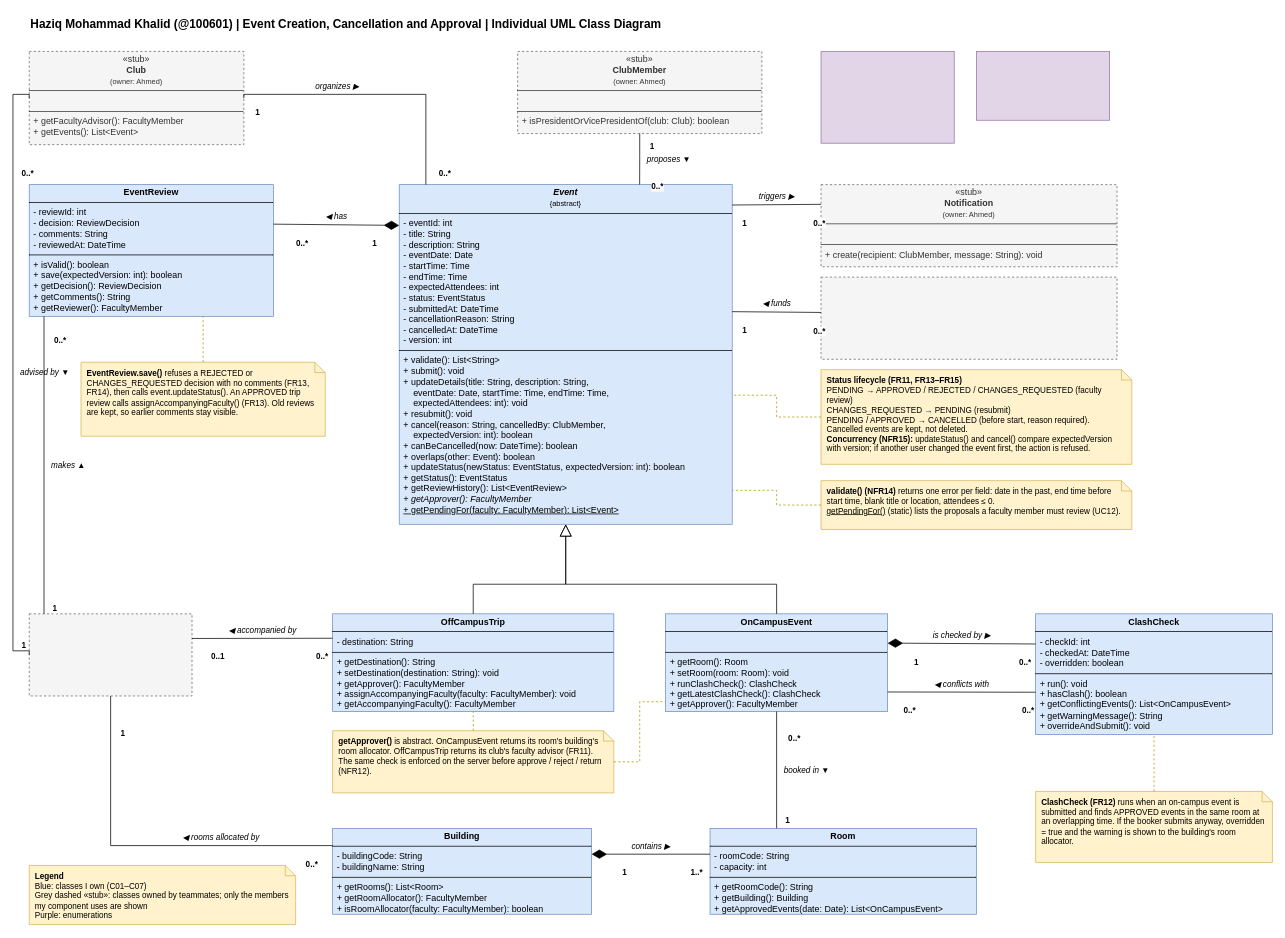
Some shapes in this 1285 by 938 pixel diagram are drawn without their labels. The centre of each missing label's shape, as x and y in pixels:
"«enumeration» EventStatus PENDING CHANGES_REQUESTED APPROVED REJECTED CANCELLED" belongs at (887,97).
"«enumeration» ReviewDecision APPROVED REJECTED CHANGES_REQUESTED" belongs at (1043,85).
"«stub» BudgetRequest (owner: Abdelrahman) + getEvent(): Event" belongs at (968,317).
"«stub» FacultyMember (owner: Ahmed) + getName(): String" belongs at (110,654).
